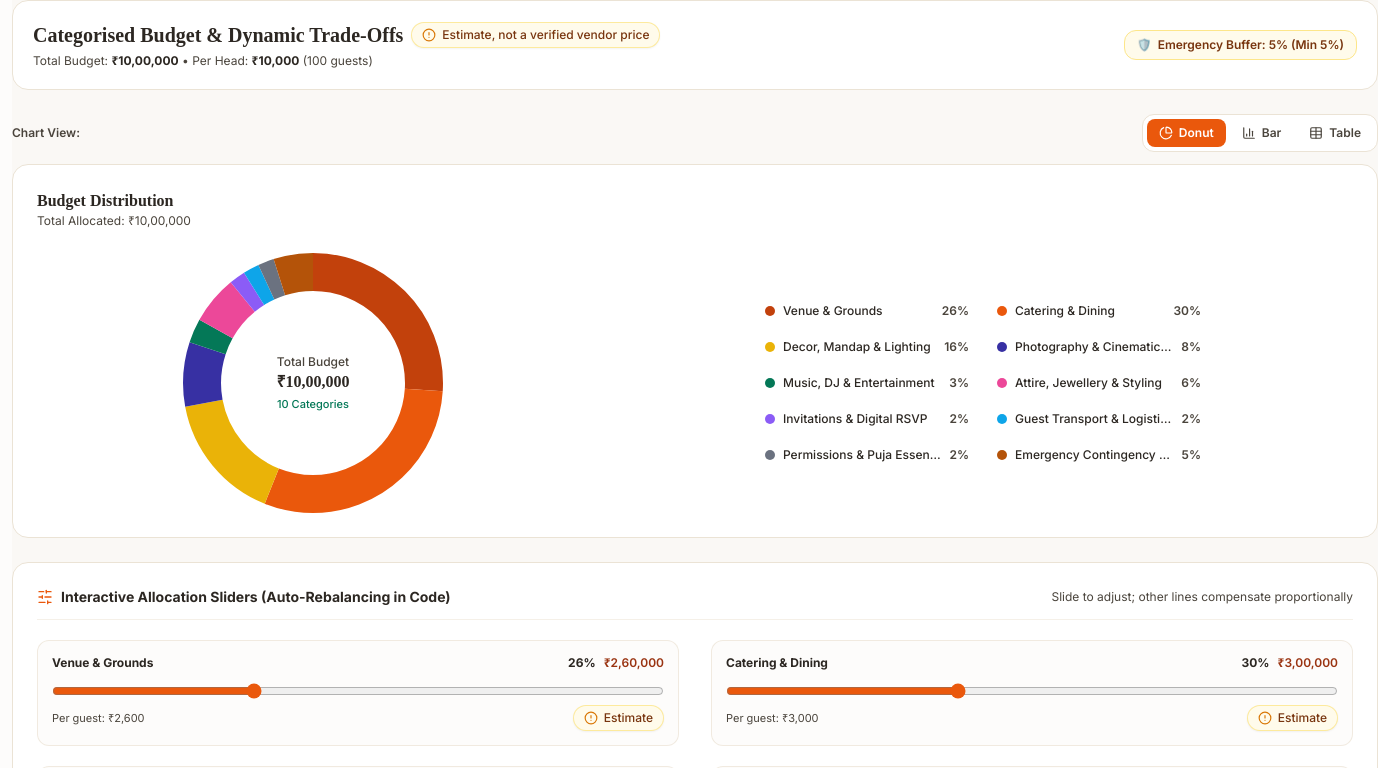
Test case: BudgetTab Component › renders budget categories and updates totals when a slider is adjusted
Expected: the text "Total Allocated: ₹10,00,000" is shown, [37,213,191,229]
// Adjust slider value to 40%
Set the slider named "Catering & Dining allocation percentage" to "40": [1032, 691] box [726,687,1338,695]
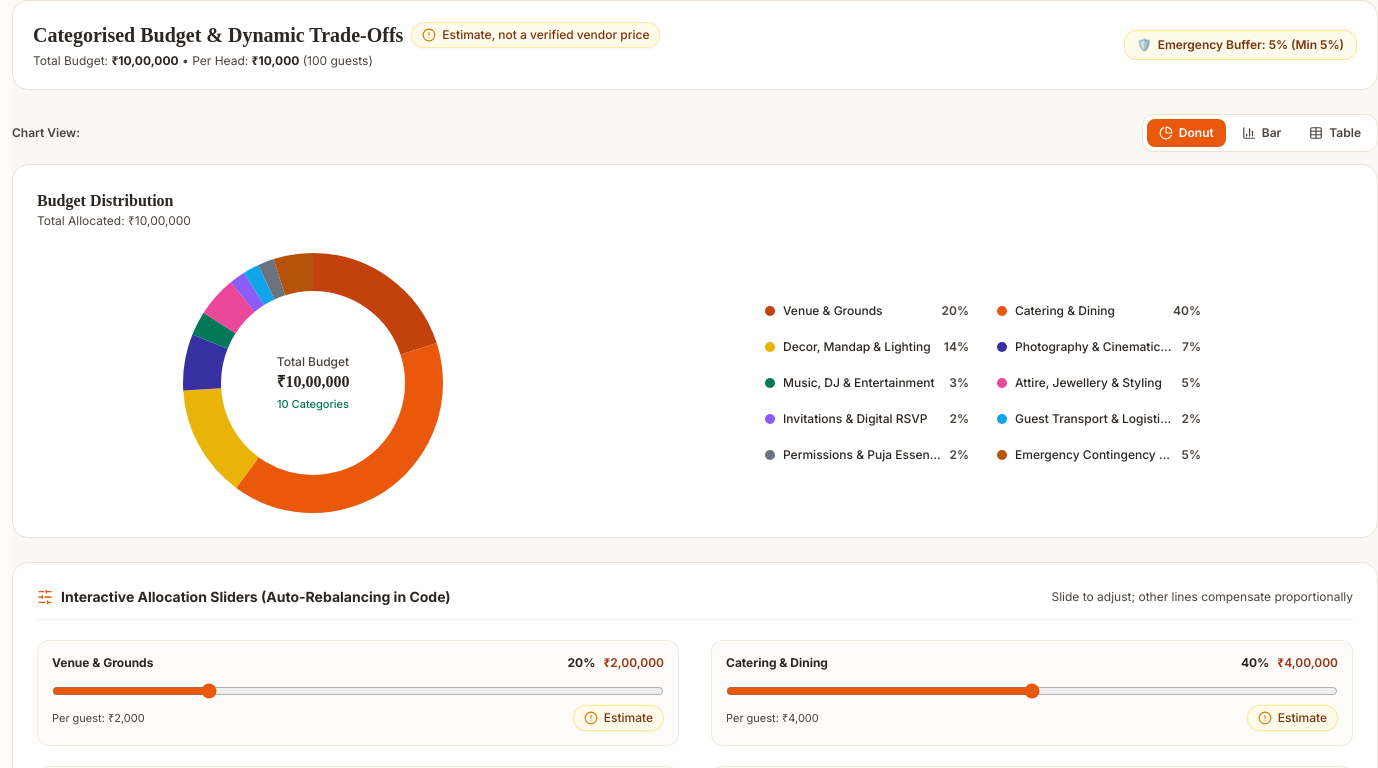
Expected: the text "Total Allocated: ₹10,00,000" is shown, [37,213,191,229]
Expected: the text "₹4,00,000" is shown, [1277,655,1338,671]
